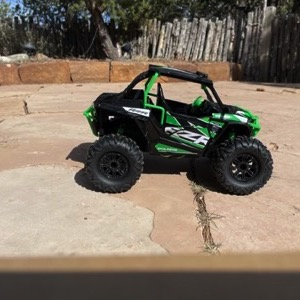polaris: (83, 62, 274, 200)
